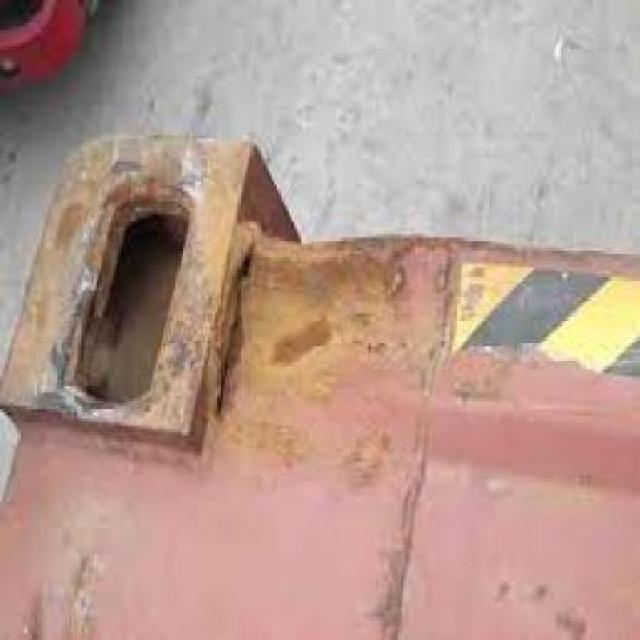hole: (232, 177, 640, 385)
rust: (7, 340, 73, 414)
